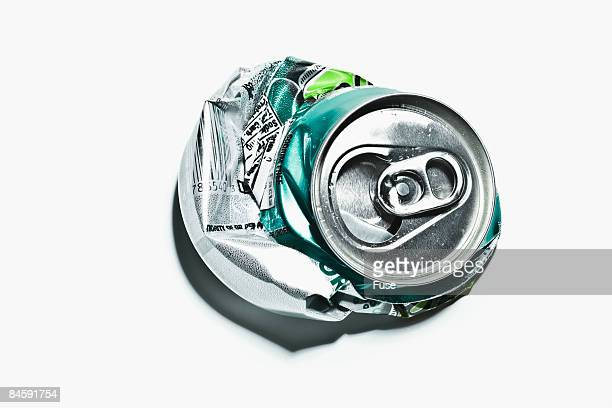can: (171, 50, 504, 353)
